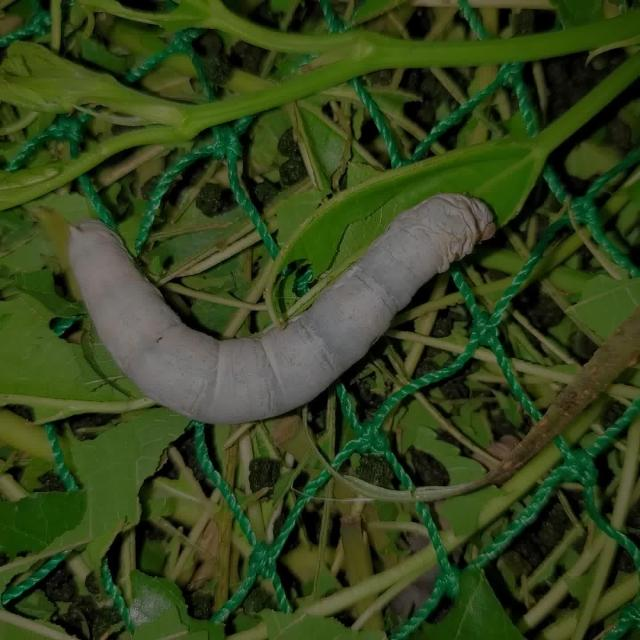Healthy: (39, 153, 533, 439)
